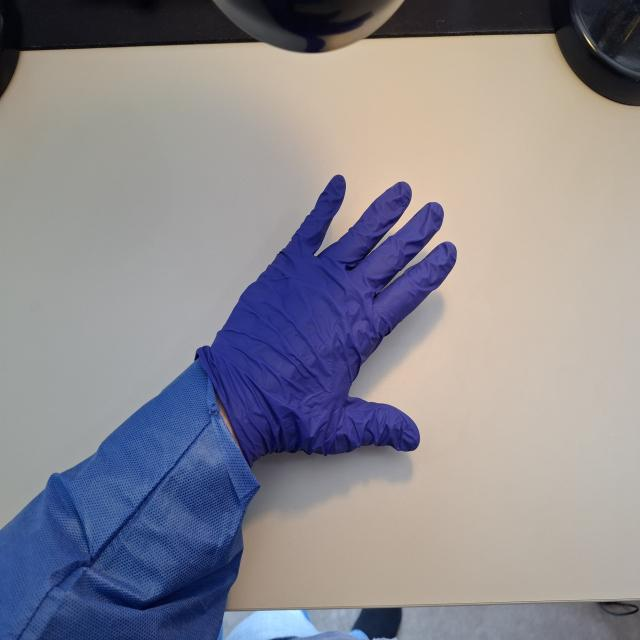glove_on: (197, 172, 460, 461)
